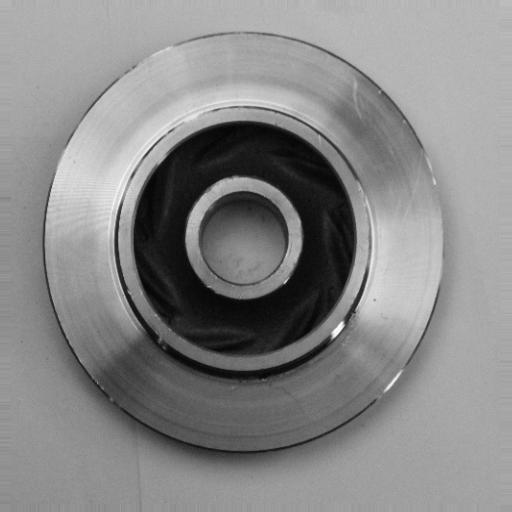scratch: (135, 307, 187, 356), (353, 183, 378, 275), (164, 100, 218, 137)
unpolished_casting: (39, 29, 447, 458)
